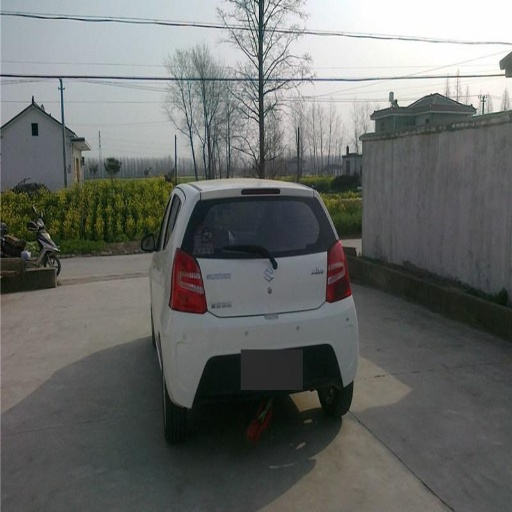back_bumper: (157, 297, 354, 417)
trunk: (201, 256, 326, 317)
